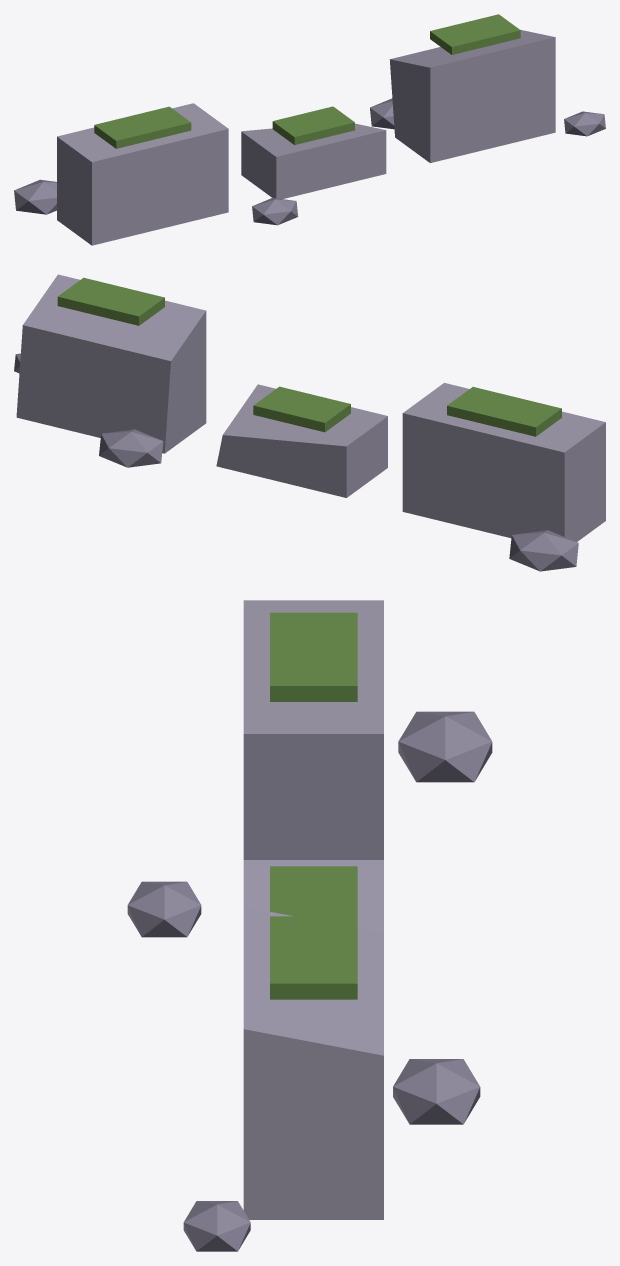
Rendered from wall_low.glb.
3 renders of one model, top to bottom at view 1: azimuth 30°, elevation 25°; view 2: azimuth 150°, elevation 25°; view 3: azimuth 270°, elevation 25°, orthographic. The views are drawn at different scales.
Parts seen in each view (by area): view 1: Wall; view 2: Wall; view 3: Wall.
Boxes of the visible parts, x1,y1,x2,y2 form: Wall: [14, 14, 605, 245]; Wall: [14, 274, 605, 571]; Wall: [127, 600, 492, 1251].
Bounding box in the file's own units: 2.8 × 0.546 × 0.8314.
